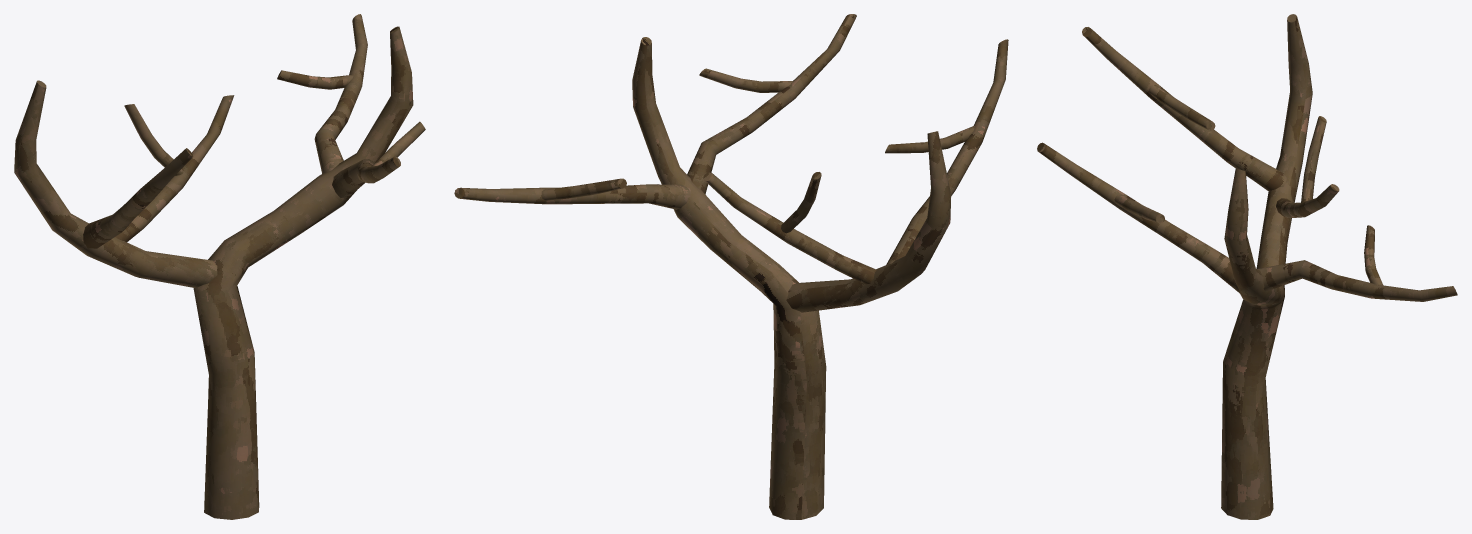
File: tree_deadtree_4.glb
The picture shows the model from 3 angles, left to right: view 1: azimuth 30°, elevation 25°; view 2: azimuth 150°, elevation 25°; view 3: azimuth 270°, elevation 25°; orthographic projection. The views are drawn at different scales.
Parts seen in each view (by area): view 1: DeadTree_4; view 2: DeadTree_4; view 3: DeadTree_4.
Part boxes in pixels (<box>): DeadTree_4: <box>14,14,425,519</box>; DeadTree_4: <box>454,14,1008,519</box>; DeadTree_4: <box>1037,14,1457,519</box>.
Size of the model in its own units: 6.88 by 7 by 6.3.
Materials: 1 (1 with a texture image).
